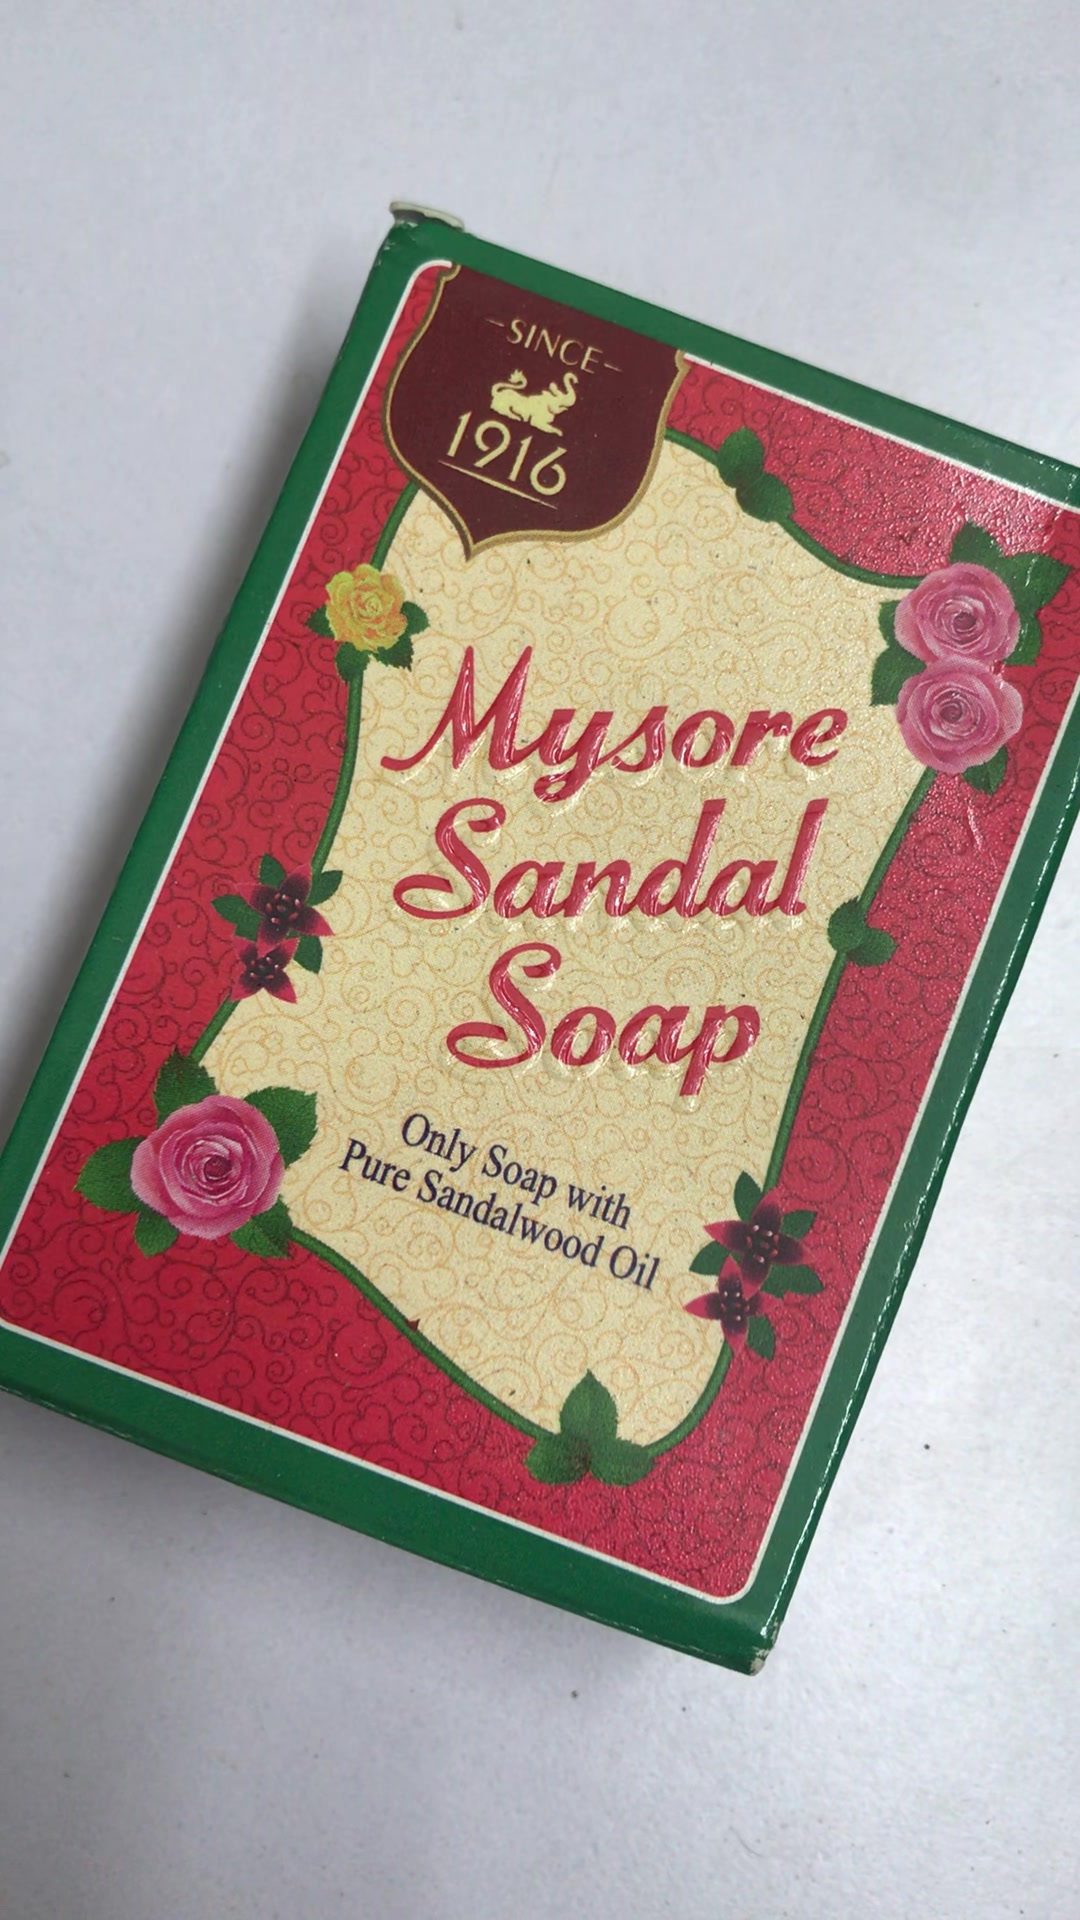mysore sandal soap: (1, 208, 1072, 1677)
